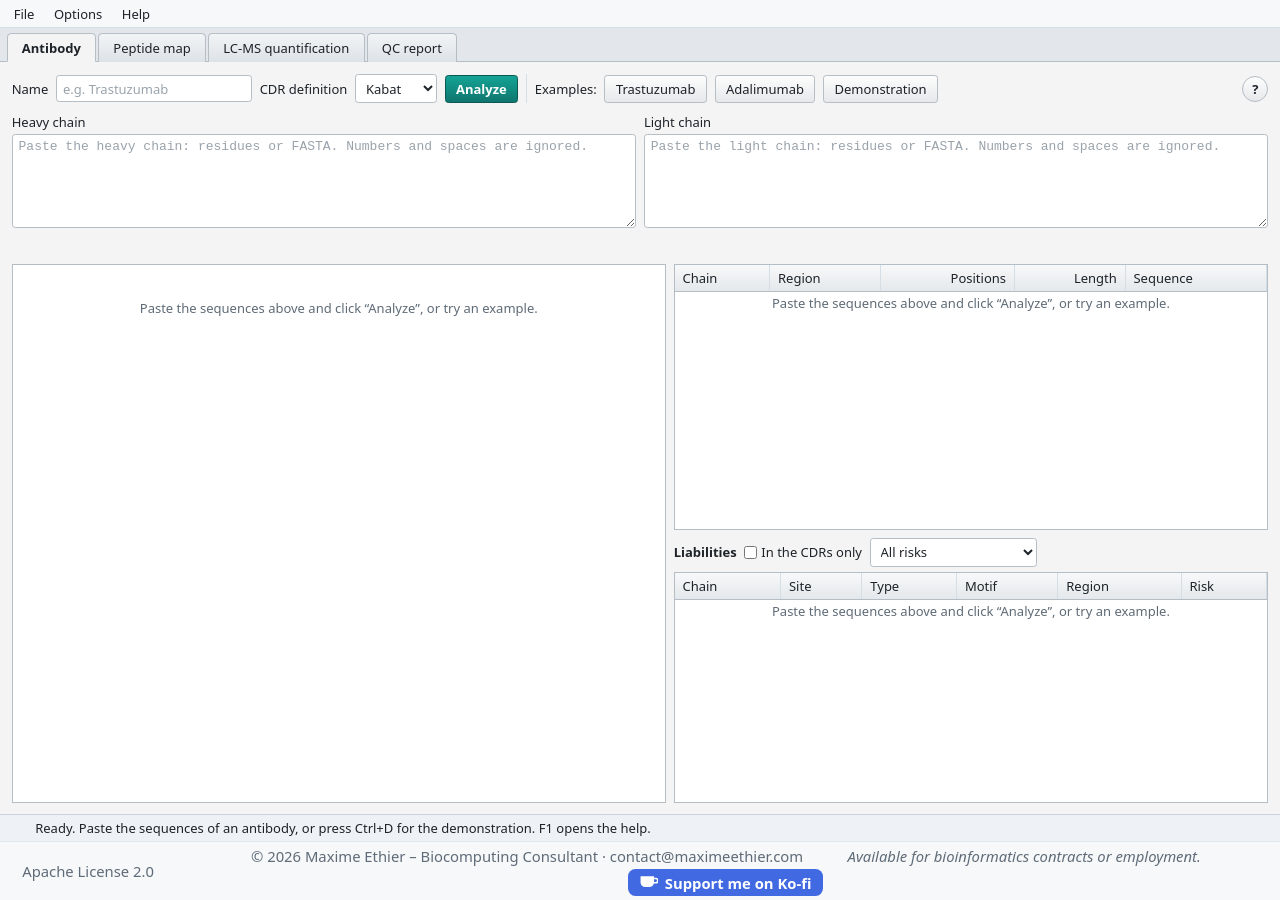
Scenario: menus and shortcuts › shows the shortcuts and ignores them while a dialog is open
The width and height of the screenshot is (1280, 900).
Click the menu item "Help".
click(136, 14)  # box top-left (112, 0), bottom-right (160, 27)
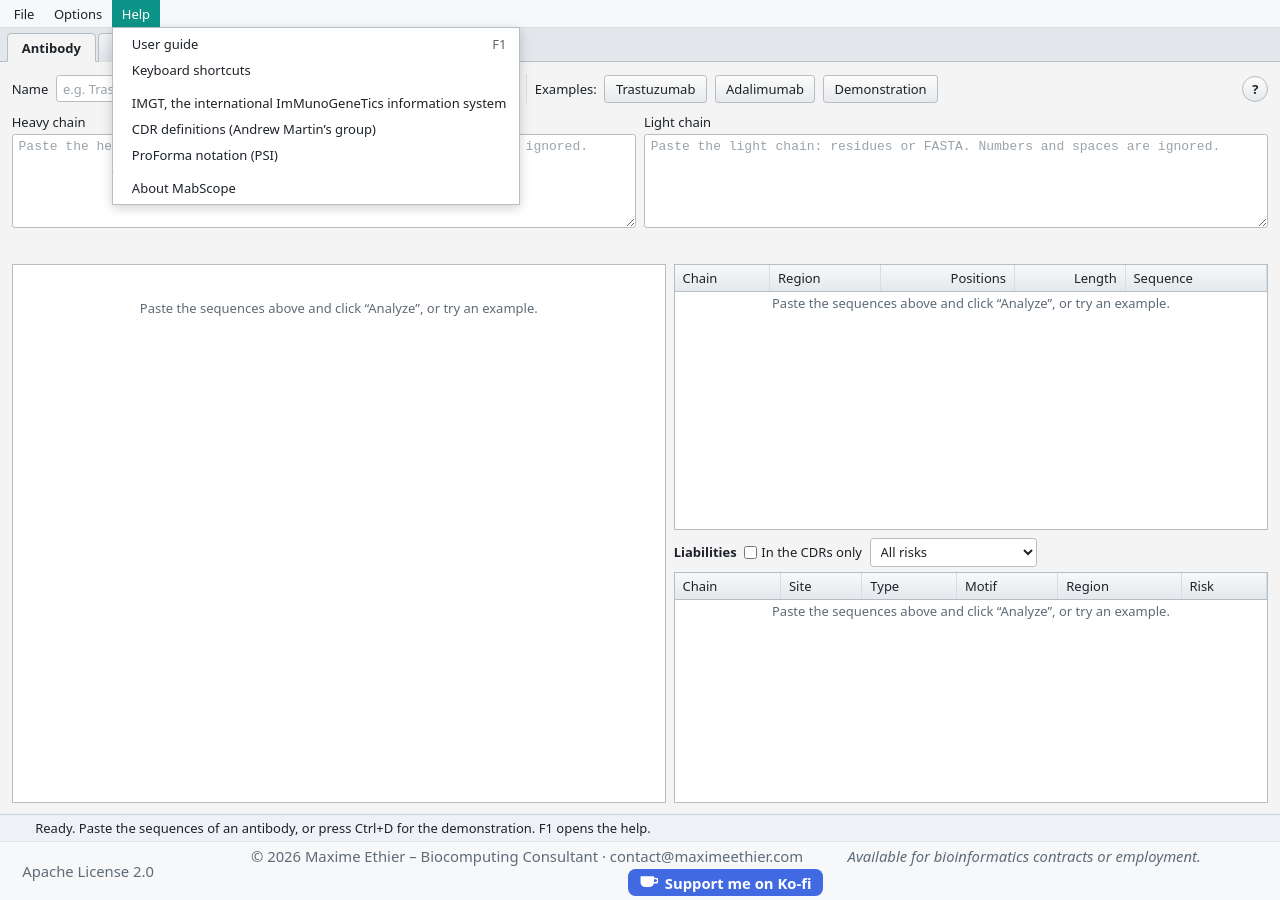
Click the menu item "Keyboard shortcuts".
click(191, 70)  # box top-left (113, 57), bottom-right (519, 83)
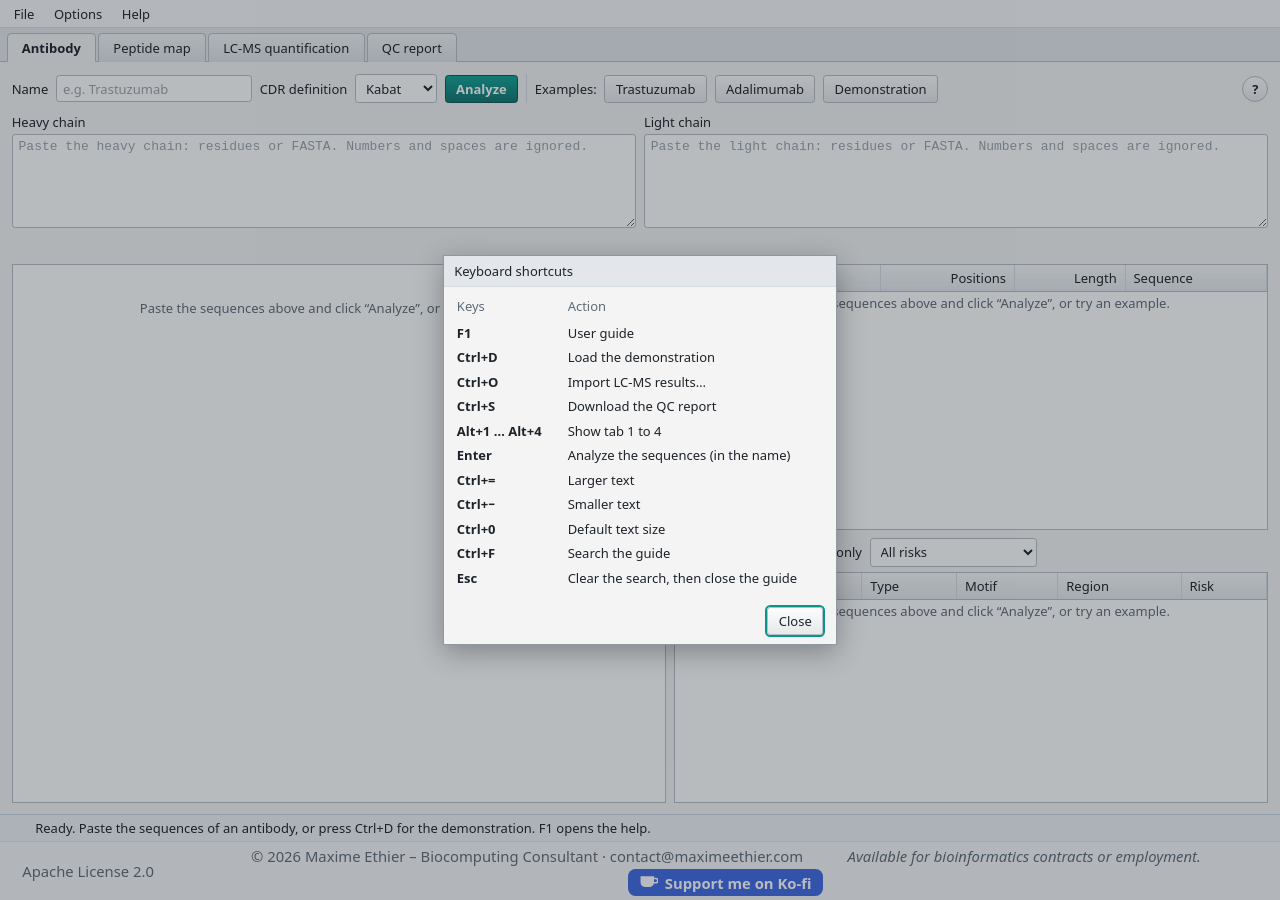
Expected: the text "Ctrl+D" is shown, top-left (457, 348), bottom-right (498, 366)
Type keys "{Control>}d{/Control}"
Press Escape
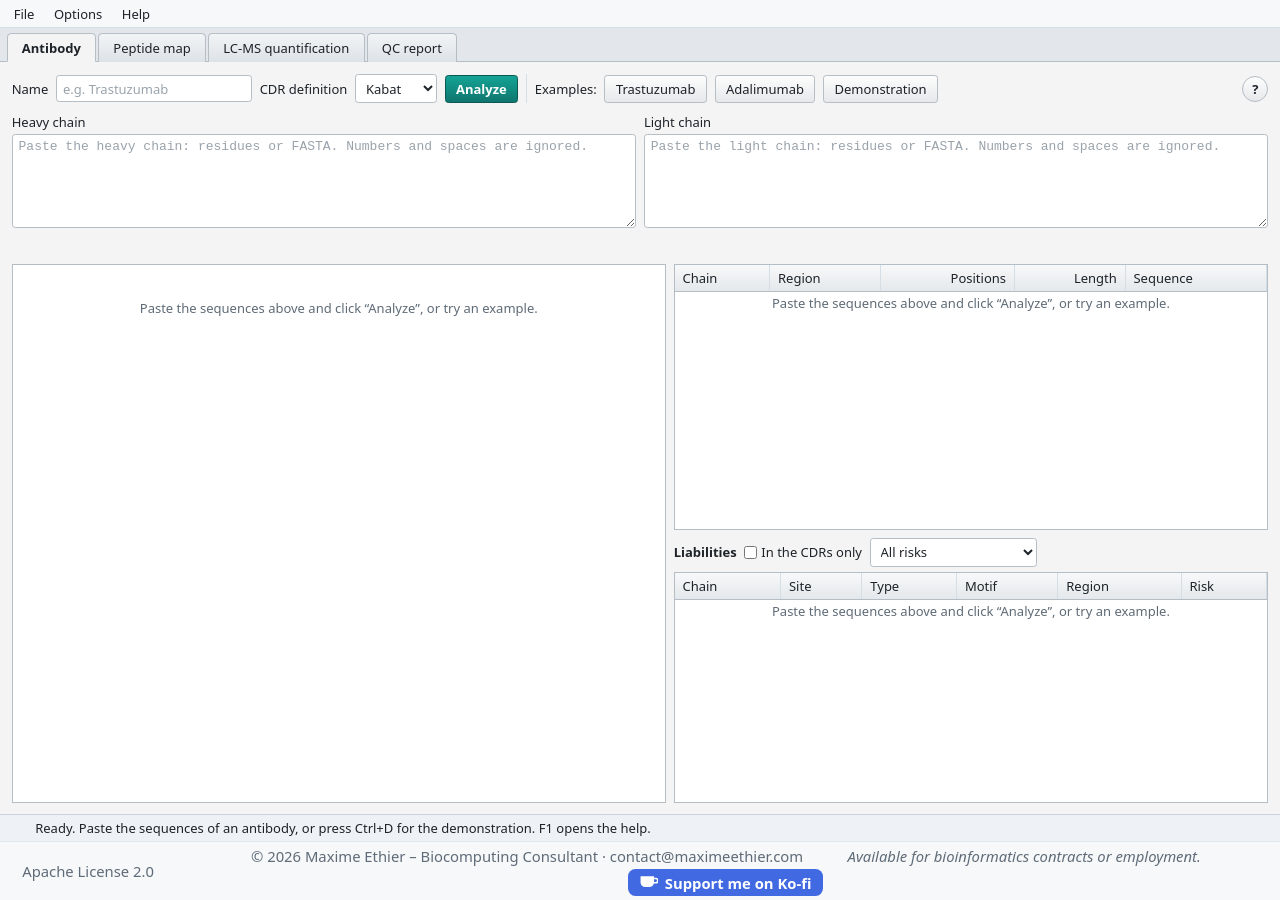
Expected: the dialog is gone
